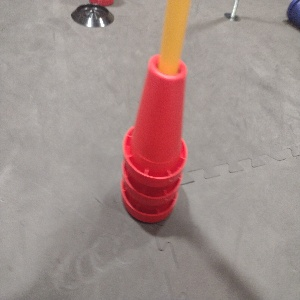Red_3: (119, 52, 187, 224)
